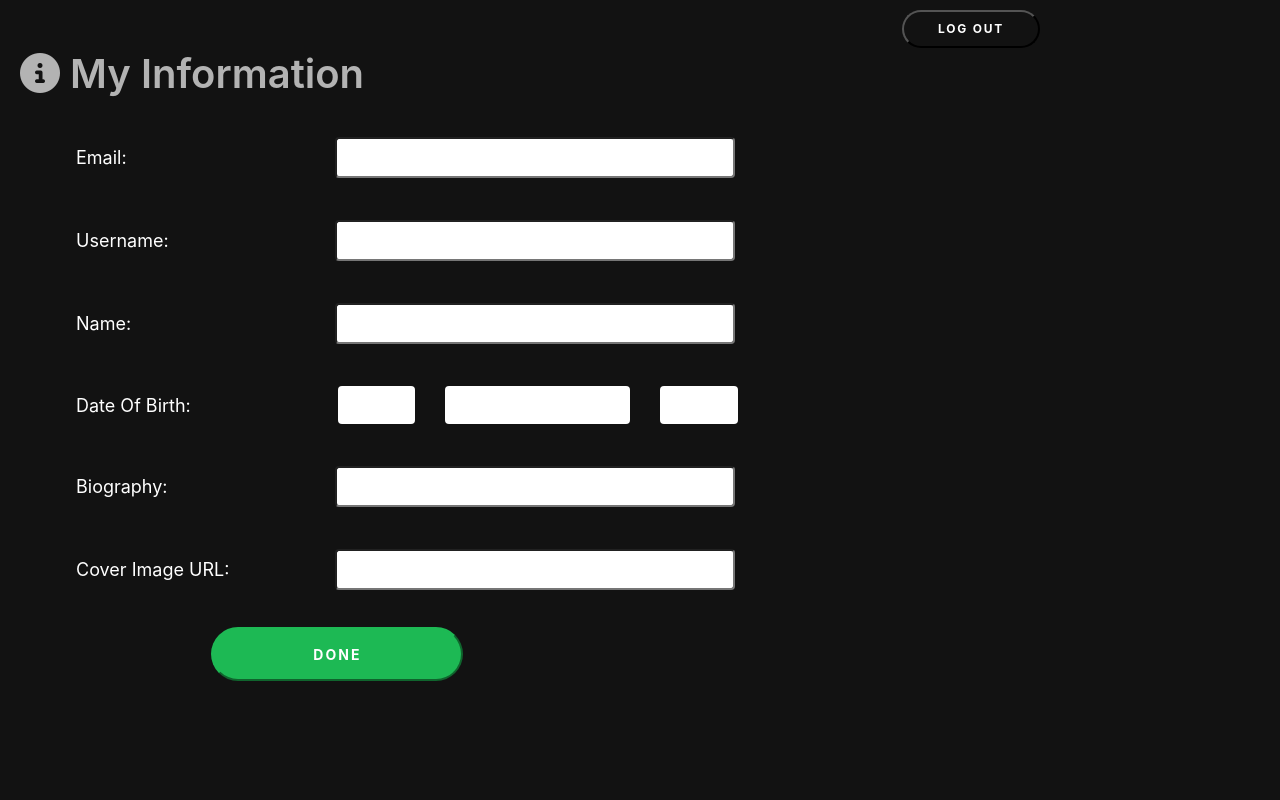
Scenario: Edit Artist Information Render test › Should validate change in month input field
Type "1000" into the number field with id "month" at point(538, 405), box [445,386,630,424]
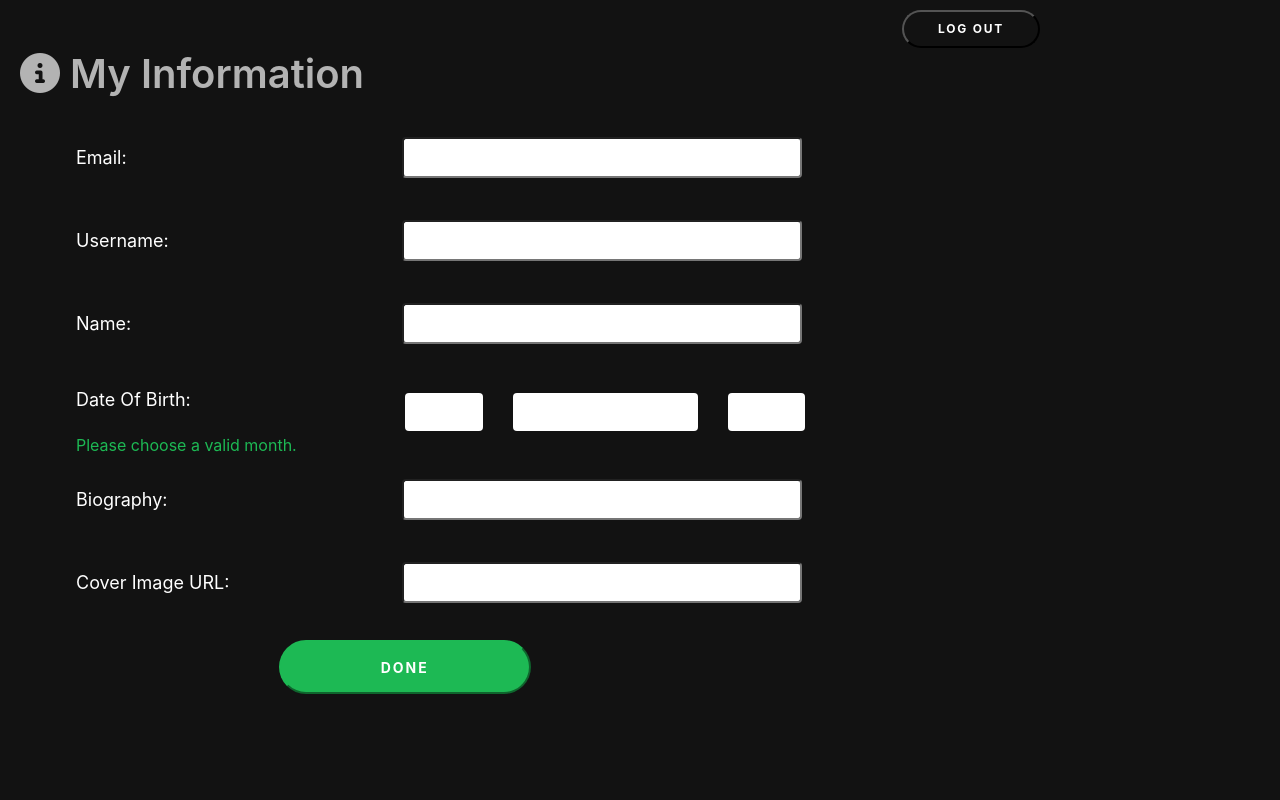
Expected: the text "Please choose a valid month." is shown, [76,433,297,457]
